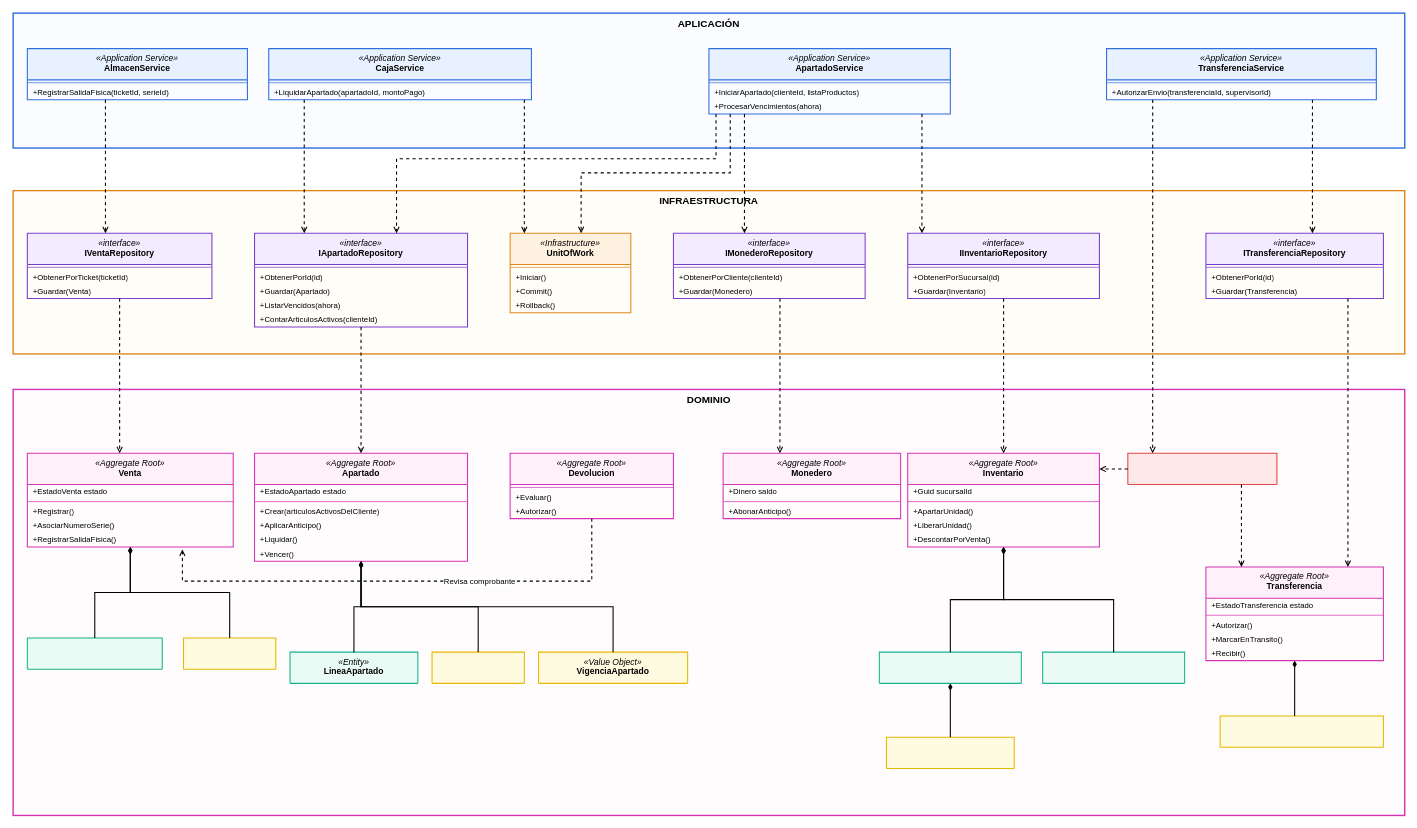
The diagram is 1417 pixels wide and 828 high, and some of its shapes have lost their labels. The centre of each missing label's shape, as x and y in pixels:
"«Domain Service» ServicioDeTransferencias" belongs at (x=1202, y=468).
"«Entity» ExistenciaProducto" belongs at (x=1113, y=667).
"«Entity» LineaVenta" belongs at (x=94, y=653).
"«Entity» UnidadSeriada" belongs at (x=950, y=667).
"«Value Object» Anticipo" belongs at (x=478, y=667).
"«Value Object» Comprobante" belongs at (x=229, y=653).
"«Value Object» DiscrepanciaEnTransito" belongs at (x=1301, y=731).
"«Value Object» NumeroSerie" belongs at (x=950, y=752).
